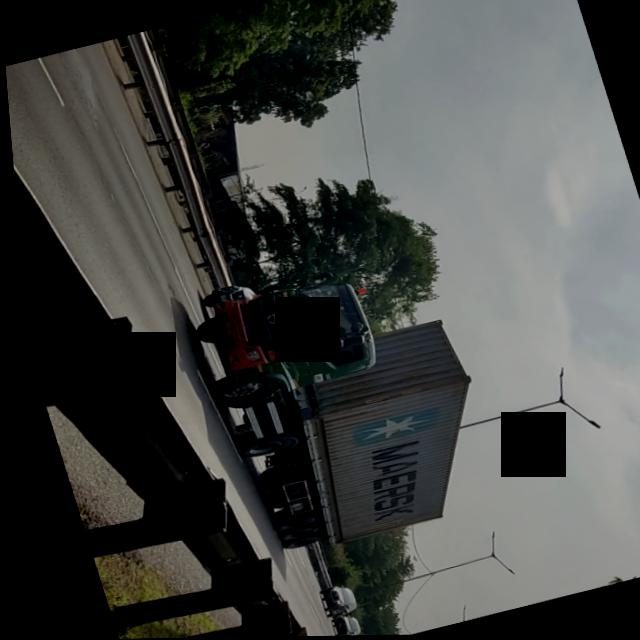Golongan V: (174, 253, 487, 565)
